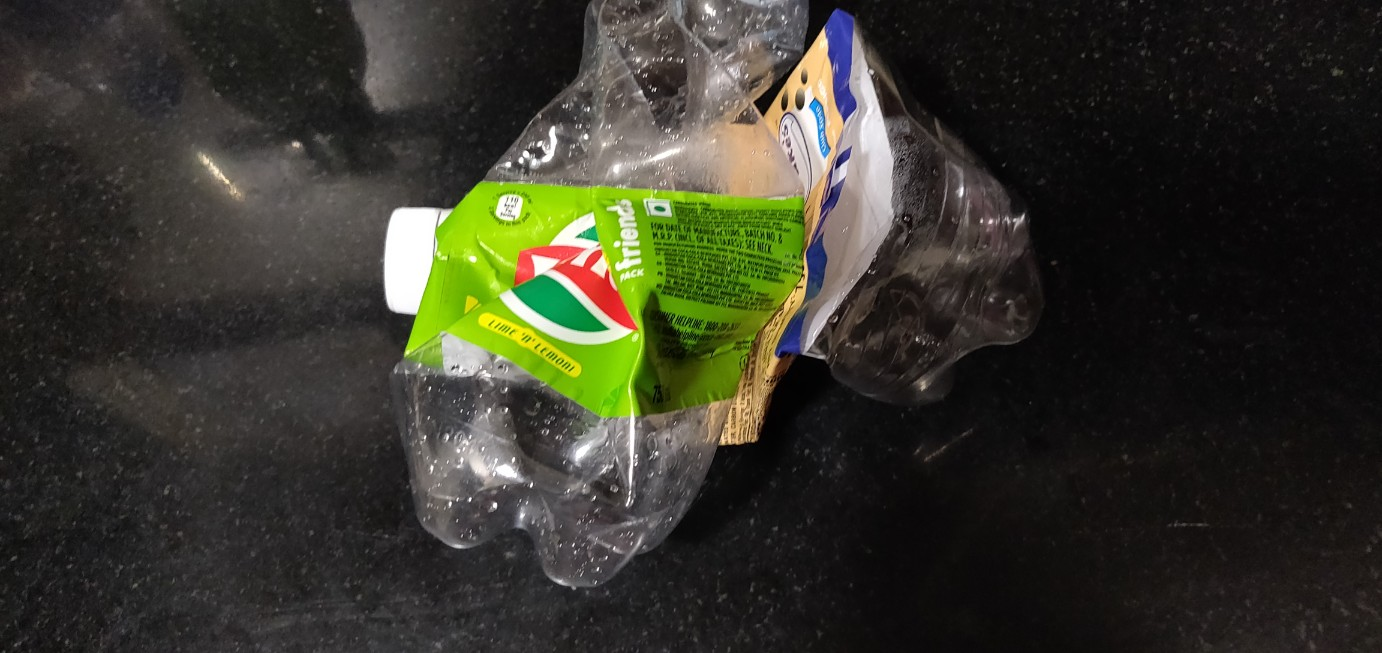Electronics: (385, 1, 880, 630), (334, 120, 1066, 433)
